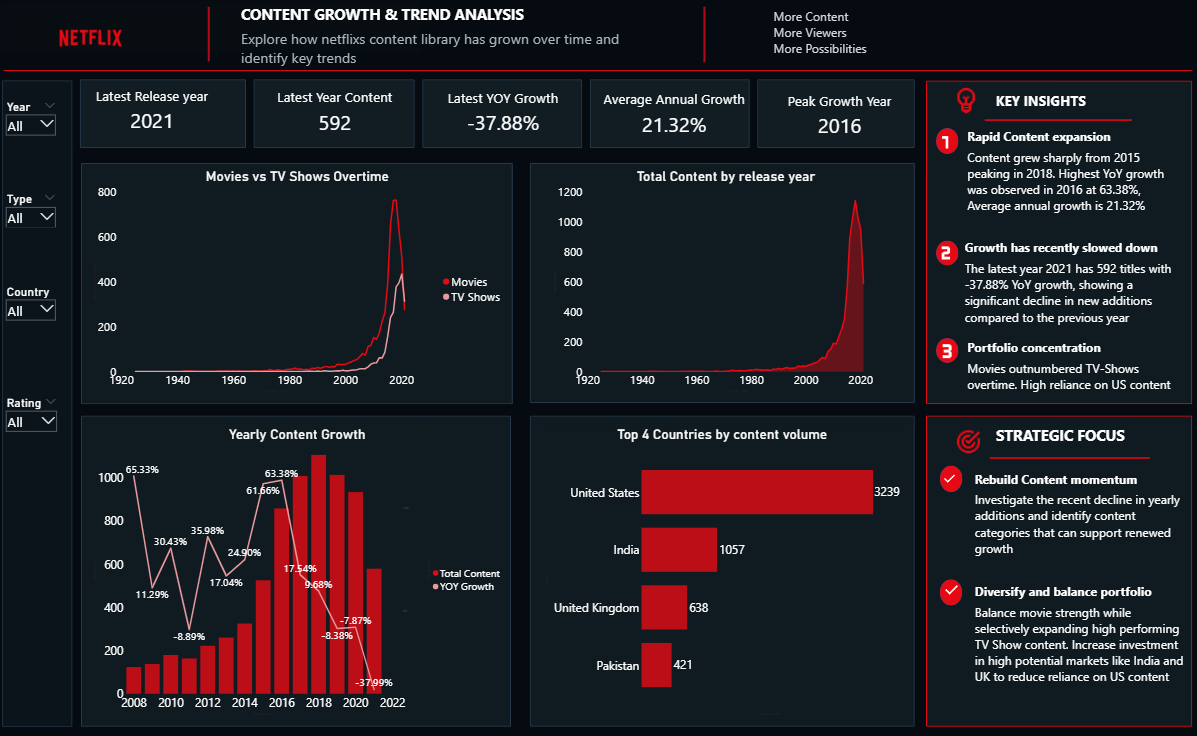

What the dashboard file says about the page in this screenshot:
{"tool":"powerbi","page":{"name":"Task 3","canvas":[2950,1450],"ordinal":1},"visuals":[{"type":"shape","box":[18.1,10.1,1656.8,205.1],"z":0},{"type":"shape","box":[0,227.7,167.6,1220.7],"z":1000},{"type":"shape","box":[189.8,234,452.2,170.8],"z":2000},{"type":"shape","box":[189.8,430.1,2163.2,594.6],"z":3000},{"type":"shape","box":[189.8,1046.8,2710.3,376.3],"z":4000},{"type":"shape","box":[2381.4,430.1,518.7,594.6],"z":5000},{"type":"shape","box":[746.4,234,483.9,170.8],"z":6000},{"type":"shape","box":[1334.6,237.2,490.2,167.6],"z":7000},{"type":"shape","box":[1929.1,234,445.9,170.8],"z":8000},{"type":"shape","box":[2479.4,237.2,408,167.6],"z":9000},{"type":"shape","box":[19,164.5,2868.4,101.2],"z":10000},{"type":"image","box":[0,0,328.9,215.1],"z":11000},{"type":"textbox","box":[357.7,31.7,1158.7,164.6],"z":12000},{"type":"textbox","box":[1693.8,25.3,516,167.8],"z":13000},{"type":"shape","box":[207.5,25.9,242.9,141.5],"z":14000},{"type":"shape","box":[1478.5,25.3,240.6,142.5],"z":15000},{"type":"cardVisual","fields":{"Data":["Keymetrics.Total Content"]},"box":[303.6,230.9,259.3,158.1],"z":16000},{"type":"cardVisual","fields":{"Data":["Keymetrics.Movies"]},"box":[828.6,227.7,313.1,164.5],"z":17000},{"type":"cardVisual","fields":{"Data":["Keymetrics.TV Shows"]},"box":[1413.7,230.9,262.5,158.1],"z":18000},{"type":"cardVisual","fields":{"Data":["Keymetrics.Countries"]},"box":[1992.4,230.9,262.5,158.1],"z":19000},{"type":"cardVisual","fields":{"Data":["Keymetrics.Total Directors"]},"box":[2574.3,234,265.7,155],"z":20000},{"type":"tableEx","title":"Top  Countries","fields":{"Values":["Dataset.country","Keymetrics.Total Content"]},"box":[2381.4,449.1,506,575.6],"z":21000},{"type":"slicer","fields":{"Values":["Dataset.release_year"]},"box":[6.5,344.2,137.2,122],"z":22000},{"type":"slicer","fields":{"Values":["Dataset.Content Type"]},"box":[0,619.9,142.3,123.3],"z":23000},{"type":"slicer","fields":{"Values":["Dataset.rating"]},"box":[0,888.7,148.6,123.3],"z":24000},{"type":"image","box":[1378.9,253,79.1,94.9],"z":25000},{"type":"image","box":[759,262.5,148.6,85.4],"z":26000},{"type":"image","box":[227.7,262.5,79.1,82.2],"z":27000},{"type":"image","box":[1951.3,275.1,88.6,75.9],"z":28000},{"type":"image","box":[2501.6,268.8,98,79.1],"z":29000},{"type":"filledMap","title":"Content by Country (Global view)","fields":{"Category":["Dataset.Country"]},"box":[227.7,430.1,1688.8,581.9],"z":30000},{"type":"shape","box":[1992.4,676.8,41.1,19],"z":31000},{"type":"shape","box":[1992.4,619.9,41.1,19],"z":32000},{"type":"shape","box":[1992.4,600.9,41.1,19],"z":33000},{"type":"shape","box":[1992.4,581.9,41.1,19],"z":34000},{"type":"shape","box":[1992.4,562.9,41.1,22.1],"z":35000},{"type":"shape","box":[1992.4,553.4,41.1,19],"z":36000},{"type":"shape","box":[1992.4,534.5,41.1,19],"z":37000},{"type":"shape","box":[1992.4,638.8,41.1,19],"z":38000},{"type":"shape","box":[1992.4,657.8,41.1,19],"z":39000},{"type":"shape","box":[1992.4,695.8,41.1,22.1],"z":40000},{"type":"shape","box":[1992.4,717.9,41.1,19],"z":41000},{"type":"shape","box":[1992.4,736.9,41.1,19],"z":42000},{"type":"shape","box":[1992.4,755.8,41.1,19],"z":43000},{"type":"shape","box":[1992.4,774.8,41.1,19],"z":44000},{"type":"shape","box":[1992.4,910.8,41.1,19],"z":45000},{"type":"textbox","box":[1922.8,449.1,183.4,113.9],"z":46000},{"type":"textbox","box":[2099.9,525,186.6,113.9],"z":47000},{"type":"textbox","box":[2099.9,765.3,202.4,72.7],"z":48000},{"type":"textbox","box":[2065.1,888.7,208.7,104.4],"z":49000},{"type":"textbox","box":[319.4,1053.1,278.3,117],"z":50000},{"type":"textbox","box":[392.2,1135.3,468.1,287.8],"z":51000},{"type":"textbox","box":[1034.1,1135.3,509.2,287.8],"z":52000},{"type":"textbox","box":[1676.1,1110,480.7,338.4],"z":53000},{"type":"textbox","box":[2318.1,1113.2,575.6,306.8],"z":54000},{"type":"shape","box":[828.6,1094.2,243.5,262.5],"z":55000},{"type":"shape","box":[2084.1,1091.1,243.5,265.7],"z":56000},{"type":"shape","box":[1473.7,1094.2,243.5,262.5],"z":57000},{"type":"image","box":[234,1046.8,98,104.4],"z":58000},{"type":"image","box":[322.6,1113.2,69.6,104.4],"z":59000},{"type":"image","box":[951.9,1129,82.2,82.2],"z":60000},{"type":"image","box":[2229.6,1113.2,88.6,88.6],"z":61000},{"type":"image","box":[1600.2,1113.2,88.6,88.6],"z":62000}]}

Visuals, with their boxes on the page's 2950x1450 design canvas (x1, y1, x2, y2). These are canvas units, not pixel positions in the 1197x736 screenshot, which may show the page scaled, cropped or inside an application window:
shape: 18 10 1675 215
shape: 0 228 168 1448
shape: 190 234 642 405
shape: 190 430 2353 1025
shape: 190 1047 2900 1423
shape: 2381 430 2900 1025
shape: 746 234 1230 405
shape: 1335 237 1825 405
shape: 1929 234 2375 405
shape: 2479 237 2887 405
shape: 19 164 2887 266
image: 0 0 329 215
textbox: 358 32 1516 196
textbox: 1694 25 2210 193
shape: 208 26 450 167
shape: 1478 25 1719 168
cardVisual - Keymetrics.Total Content: 304 231 563 389
cardVisual - Keymetrics.Movies: 829 228 1142 392
cardVisual - Keymetrics.TV Shows: 1414 231 1676 389
cardVisual - Keymetrics.Countries: 1992 231 2255 389
cardVisual - Keymetrics.Total Directors: 2574 234 2840 389
"Top  Countries" tableEx: 2381 449 2887 1025
slicer - Dataset.release_year: 6 344 144 466
slicer - Dataset.Content Type: 0 620 142 743
slicer - Dataset.rating: 0 889 149 1012
image: 1379 253 1458 348
image: 759 262 908 348
image: 228 262 307 345
image: 1951 275 2040 351
image: 2502 269 2600 348
"Content by Country (Global view)" filledMap: 228 430 1916 1012
shape: 1992 677 2034 696
shape: 1992 620 2034 639
shape: 1992 601 2034 620
shape: 1992 582 2034 601
shape: 1992 563 2034 585
shape: 1992 553 2034 572
shape: 1992 534 2034 554
shape: 1992 639 2034 658
shape: 1992 658 2034 677
shape: 1992 696 2034 718
shape: 1992 718 2034 737
shape: 1992 737 2034 756
shape: 1992 756 2034 775
shape: 1992 775 2034 794
shape: 1992 911 2034 930
textbox: 1923 449 2106 563
textbox: 2100 525 2286 639
textbox: 2100 765 2302 838
textbox: 2065 889 2274 993
textbox: 319 1053 598 1170
textbox: 392 1135 860 1423
textbox: 1034 1135 1543 1423
textbox: 1676 1110 2157 1448
textbox: 2318 1113 2894 1420
shape: 829 1094 1072 1357
shape: 2084 1091 2328 1357
shape: 1474 1094 1717 1357
image: 234 1047 332 1151
image: 323 1113 392 1218
image: 952 1129 1034 1211
image: 2230 1113 2318 1202
image: 1600 1113 1689 1202
